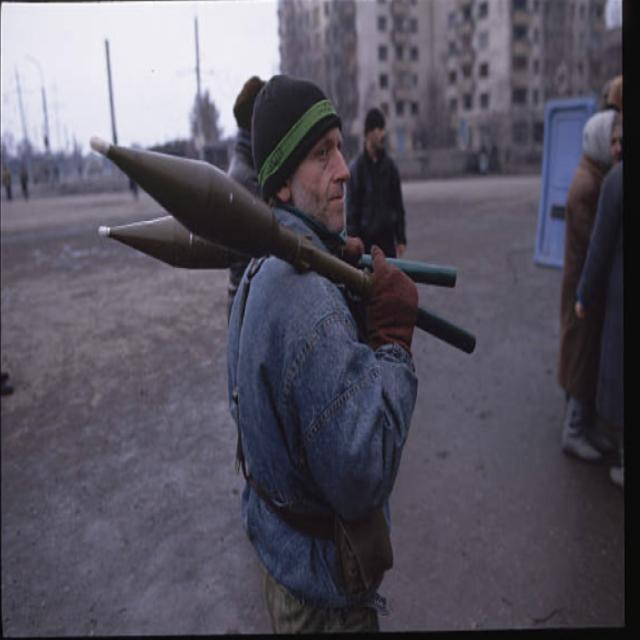bazooka: (84, 127, 477, 372), (97, 185, 467, 298)
